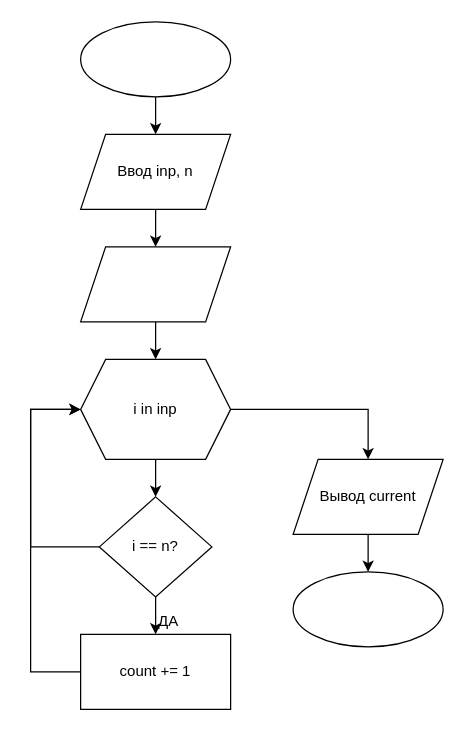
The diagram is 465 pixels wide and 731 high, and some of its shapes have lost their labels. The shapes that lost their labels are listed below. From the top down, each one's centre as x and y in pixels, then its label:
At point (155, 59): "НАЧАЛО".
At point (155, 284): "Ввод count = 0".
At point (367, 609): "КОНЕЦ".
